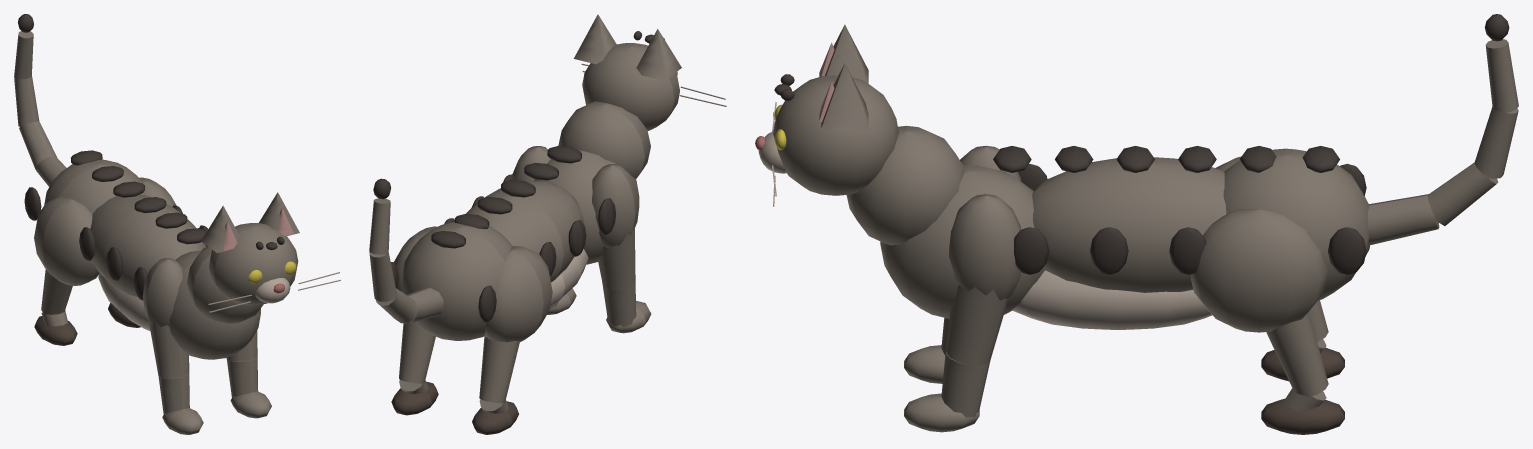
File: gato.glb
3 views of the same model, side by side, from view 1: azimuth 30°, elevation 25°; view 2: azimuth 150°, elevation 25°; view 3: azimuth 270°, elevation 25° (orthographic). The views are drawn at different scales.
Parts seen in each view (by area): view 1: GAT_Lomo, GAT_Cabeza, GAT_Muslo_I, GAT_Pecho, GAT_Grupa, GAT_Cuello, GAT_Hombro_I, GAT_Brazo_I, GAT_Vientre, GAT_Antebrazo_I, GAT_Antebrazo_D, GAT_Cola_2 (+22 smaller); view 2: GAT_Grupa, GAT_Lomo, GAT_Cabeza, GAT_Muslo_I, GAT_Cuello, GAT_Pecho, GAT_Hombro_I, GAT_Tibia_I, GAT_Tibia_D, GAT_Brazo_I, GAT_Oreja_I, GAT_Antebrazo_I (+21 smaller); view 3: GAT_Lomo, GAT_Muslo_D, GAT_Cabeza, GAT_Grupa, GAT_Cuello, GAT_Pecho, GAT_Vientre, GAT_Hombro_D, GAT_Brazo_D, GAT_Tibia_D, GAT_Cola_1, GAT_Cola_2 (+20 smaller).
Boxes of the visible parts, bbox=[...] form: GAT_Lomo: bbox=[90, 194, 206, 296]; GAT_Cabeza: bbox=[209, 223, 298, 305]; GAT_Muslo_I: bbox=[34, 197, 99, 285]; GAT_Pecho: bbox=[169, 250, 260, 359]; GAT_Grupa: bbox=[44, 159, 145, 213]; GAT_Cuello: bbox=[187, 246, 263, 324]; GAT_Hombro_I: bbox=[142, 258, 182, 327]; GAT_Brazo_I: bbox=[148, 319, 189, 378]; GAT_Vientre: bbox=[98, 273, 150, 331]; GAT_Antebrazo_I: bbox=[158, 372, 189, 413]; GAT_Antebrazo_D: bbox=[227, 355, 257, 397]; GAT_Cola_2: bbox=[19, 121, 57, 169]; GAT_Grupa: bbox=[401, 222, 512, 340]; GAT_Lomo: bbox=[466, 181, 584, 282]; GAT_Cabeza: bbox=[582, 43, 679, 130]; GAT_Muslo_I: bbox=[484, 246, 552, 342]; GAT_Cuello: bbox=[558, 101, 650, 178]; GAT_Pecho: bbox=[534, 149, 639, 264]; GAT_Hombro_I: bbox=[592, 164, 639, 247]; GAT_Tibia_I: bbox=[479, 336, 519, 403]; GAT_Tibia_D: bbox=[399, 322, 435, 383]; GAT_Brazo_I: bbox=[598, 227, 635, 290]; GAT_Oreja_I: bbox=[636, 29, 681, 80]; GAT_Antebrazo_I: bbox=[602, 281, 636, 327]; GAT_Lomo: bbox=[1032, 157, 1226, 292]; GAT_Muslo_D: bbox=[1191, 209, 1328, 332]; GAT_Cabeza: bbox=[773, 75, 898, 195]; GAT_Grupa: bbox=[1223, 148, 1369, 300]; GAT_Cuello: bbox=[846, 125, 964, 245]; GAT_Pecho: bbox=[880, 165, 1044, 318]; GAT_Vientre: bbox=[1012, 270, 1211, 329]; GAT_Hombro_D: bbox=[949, 194, 1021, 300]; GAT_Brazo_D: bbox=[945, 285, 1008, 365]; GAT_Tibia_D: bbox=[1266, 312, 1328, 397]; GAT_Cola_1: bbox=[1367, 194, 1439, 245]; GAT_Cola_2: bbox=[1427, 162, 1498, 225].
Size of the model in its own units: 0.25 by 0.489 by 0.8669.
